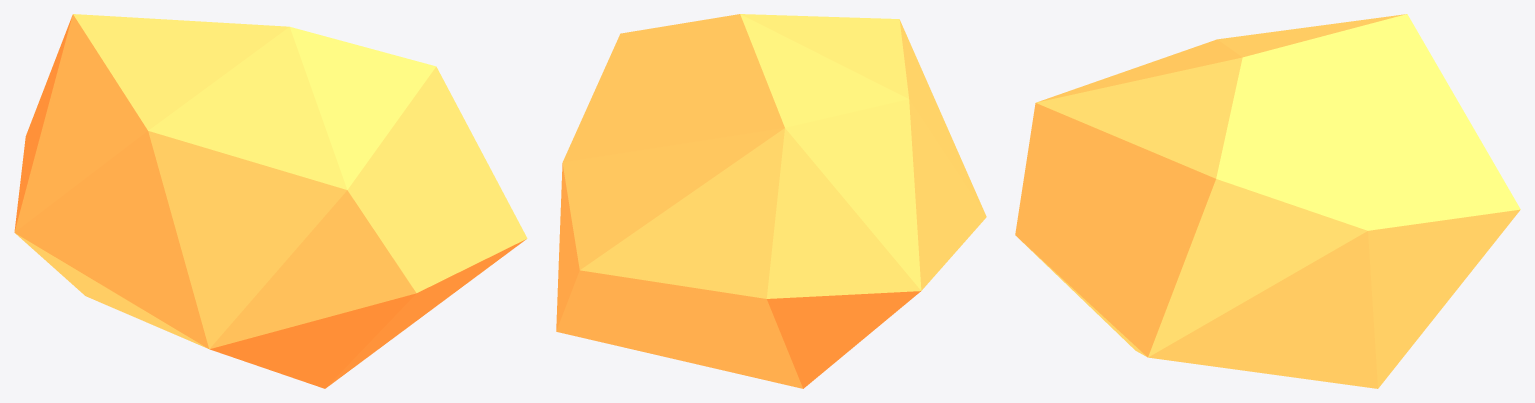
The model's file is Rock-1.fbx.
The picture shows the model from 3 angles, left to right: view 1: azimuth 30°, elevation 25°; view 2: azimuth 150°, elevation 25°; view 3: azimuth 270°, elevation 25°; orthographic projection. The views are drawn at different scales.
Parts seen in each view (by area): view 1: Rock-1; view 2: Rock-1; view 3: Rock-1.
Part boxes in pixels (x1,y1,x2,y2): Rock-1: [14, 14, 527, 388]; Rock-1: [556, 14, 986, 388]; Rock-1: [1015, 14, 1520, 388].
Size of the model in its own units: 0.5273 by 0.3831 by 0.5796.
